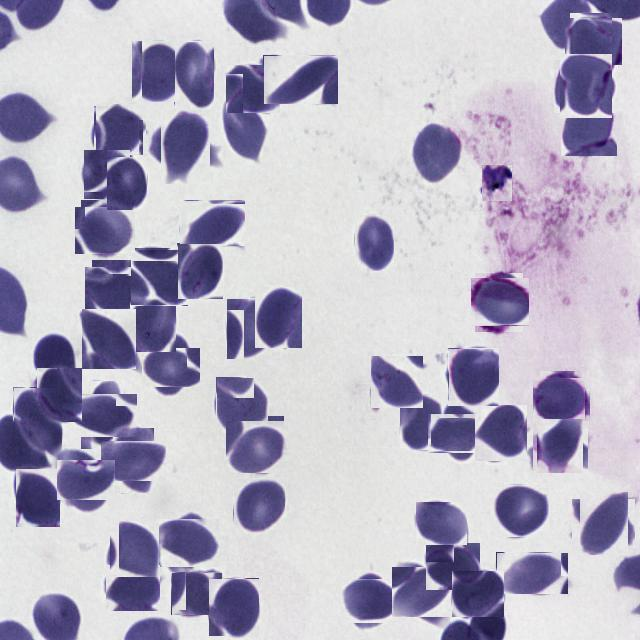red blood cell: (154, 116, 216, 178), (263, 55, 338, 104), (561, 94, 617, 156), (557, 57, 615, 116), (228, 418, 286, 476), (13, 387, 62, 455), (132, 248, 189, 306), (412, 122, 465, 184), (82, 309, 136, 369), (132, 40, 184, 102), (160, 515, 216, 571), (75, 387, 131, 443), (576, 496, 632, 552), (216, 377, 268, 436), (179, 200, 245, 246), (394, 564, 449, 619), (493, 484, 548, 539), (496, 552, 568, 594), (233, 478, 285, 535), (208, 578, 259, 636), (448, 348, 499, 406), (222, 97, 268, 161), (130, 288, 176, 352), (78, 203, 132, 257), (472, 276, 526, 330), (475, 405, 527, 461), (255, 287, 302, 348), (89, 263, 142, 317), (107, 434, 160, 487), (226, 298, 272, 359), (174, 41, 214, 110), (568, 15, 620, 68), (108, 523, 160, 576), (371, 356, 423, 408), (225, 64, 280, 113), (15, 468, 60, 527), (536, 374, 588, 425), (425, 542, 480, 590), (344, 576, 396, 626), (177, 243, 223, 299), (434, 408, 484, 459), (36, 367, 82, 422), (536, 421, 586, 471), (61, 456, 111, 506), (106, 565, 160, 611), (146, 343, 195, 392), (96, 104, 144, 154), (452, 571, 504, 617), (83, 149, 130, 199), (400, 395, 442, 450), (415, 501, 467, 545), (354, 214, 394, 271), (34, 333, 80, 382), (171, 572, 222, 615), (107, 157, 147, 210), (482, 165, 512, 201)
